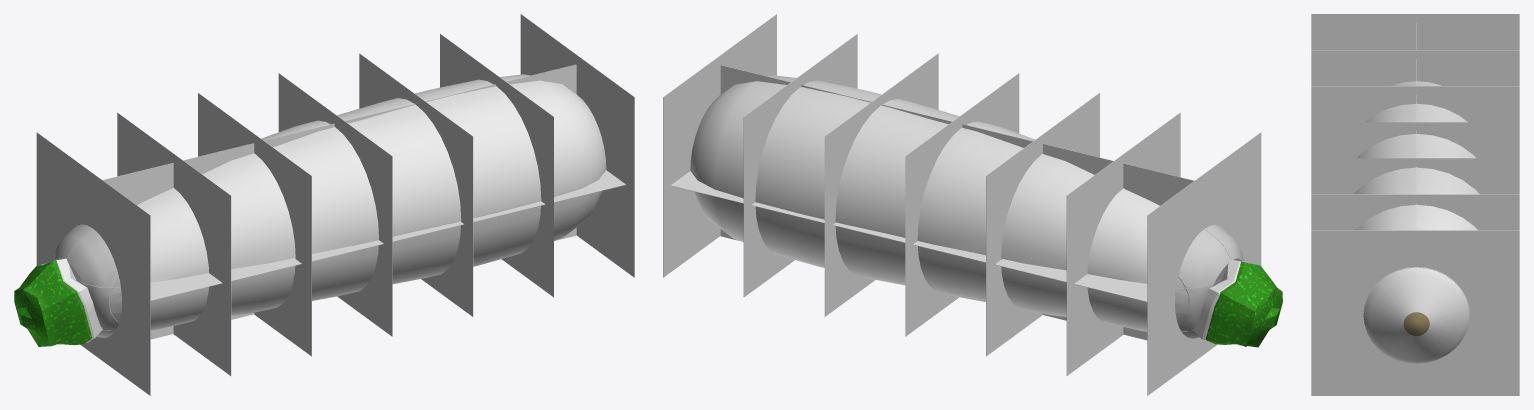
Rendered from ZuchiniFertig2.fbx.
3 views of the same model, side by side, from view 1: azimuth 30°, elevation 25°; view 2: azimuth 150°, elevation 25°; view 3: azimuth 270°, elevation 25° (orthographic). The views are drawn at different scales.
Parts seen in each view (by area): view 1: R_Schnitt1, R_Schnitt7, R_Schnitt2, Stumpf, Cylinder.020, Cylinder.017, R_Schnitt3, Cylinder.014, R_Schnitt4, R_Schnitt6, R_Schnitt5, Cylinder.011 (+17 smaller); view 2: R_Schnitt1, R_Schnitt7, R_Schnitt2, Stumpf, Cylinder.007, Cylinder.006, Cylinder.013, R_Schnitt3, R_Schnitt4, Cylinder.010, R_Schnitt6, R_Schnitt5 (+17 smaller); view 3: R_Schnitt7, Stumpf.002, R_Schnitt1, R_Schnitt2, R_Schnitt3, R_Schnitt4, R_Schnitt6, R_Schnitt5, Cylinder.007, Cylinder.008, Cylinder.020, Cylinder.023 (+4 smaller).
Boxes of the visible parts, <box> form: R_Schnitt1: <box>36,132,150,395</box>; R_Schnitt7: <box>520,14,634,277</box>; R_Schnitt2: <box>117,112,231,375</box>; Stumpf: <box>14,224,121,346</box>; Cylinder.020: <box>426,86,541,218</box>; Cylinder.017: <box>348,104,461,236</box>; R_Schnitt3: <box>198,93,311,356</box>; Cylinder.014: <box>273,127,378,253</box>; R_Schnitt4: <box>278,73,392,336</box>; R_Schnitt6: <box>440,33,553,297</box>; R_Schnitt5: <box>359,53,473,316</box>; Cylinder.011: <box>202,153,295,269</box>; R_Schnitt1: <box>1147,132,1261,395</box>; R_Schnitt7: <box>663,14,776,277</box>; R_Schnitt2: <box>1066,112,1180,375</box>; Stumpf: <box>1175,225,1282,347</box>; Cylinder.007: <box>755,87,870,219</box>; Cylinder.006: <box>835,105,948,237</box>; Cylinder.013: <box>917,127,1023,255</box>; R_Schnitt3: <box>986,93,1099,356</box>; R_Schnitt4: <box>905,73,1019,336</box>; Cylinder.010: <box>1001,154,1094,270</box>; R_Schnitt6: <box>743,34,857,297</box>; R_Schnitt5: <box>824,53,938,316</box>; R_Schnitt7: <box>1311,230,1519,395</box>; Stumpf.002: <box>1363,267,1469,363</box>; R_Schnitt1: <box>1311,14,1519,49</box>; R_Schnitt2: <box>1311,50,1519,85</box>; R_Schnitt3: <box>1311,86,1519,122</box>; R_Schnitt4: <box>1311,122,1519,158</box>; R_Schnitt6: <box>1311,194,1519,230</box>; R_Schnitt5: <box>1311,158,1519,194</box>; Cylinder.007: <box>1416,167,1479,229</box>; Cylinder.008: <box>1416,205,1477,315</box>; Cylinder.020: <box>1354,167,1415,229</box>; Cylinder.023: <box>1355,205,1415,315</box>.
Bounding box in the file's own units: 439 × 130 × 149.
